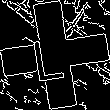L_N: (35, 28, 75, 82)
